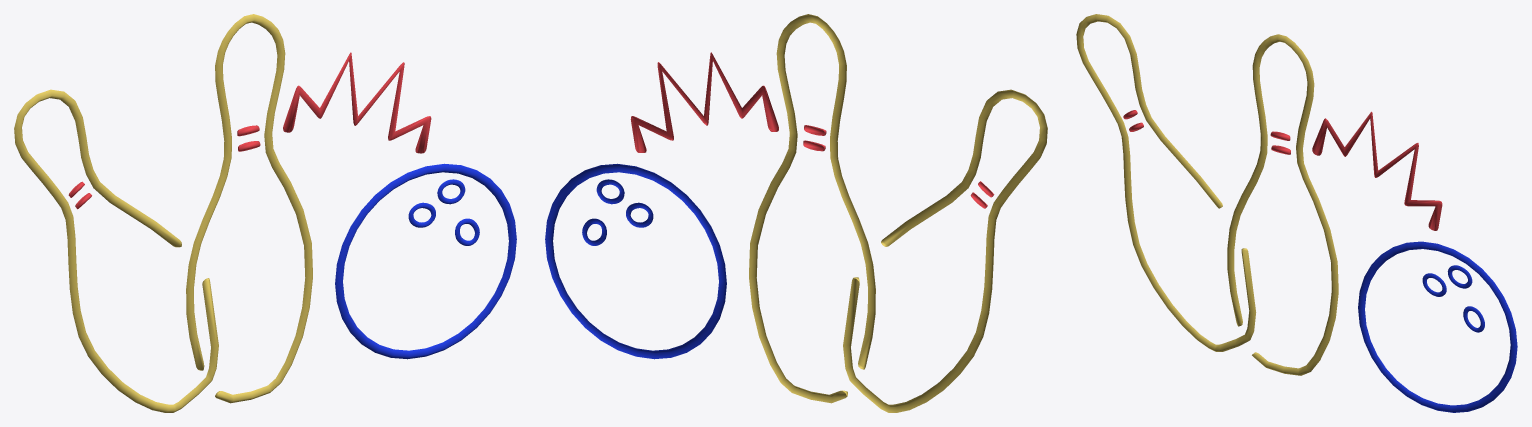
File: NeonLights.fbx
3 renders of one model, left to right at view 1: azimuth 30°, elevation 25°; view 2: azimuth 150°, elevation 25°; view 3: azimuth 330°, elevation 25°, orthographic. The views are drawn at different scales.
Parts seen in each view (by area): view 1: NurbsPath.002; view 2: NurbsPath.002; view 3: NurbsPath.002.
Boxes of the visible parts, x1,y1,x2,y2 form: NurbsPath.002: (14, 14, 516, 412); NurbsPath.002: (545, 14, 1047, 412); NurbsPath.002: (1076, 14, 1517, 412).
Bounding box in the file's own units: 14.17 × 10.38 × 0.1122.
